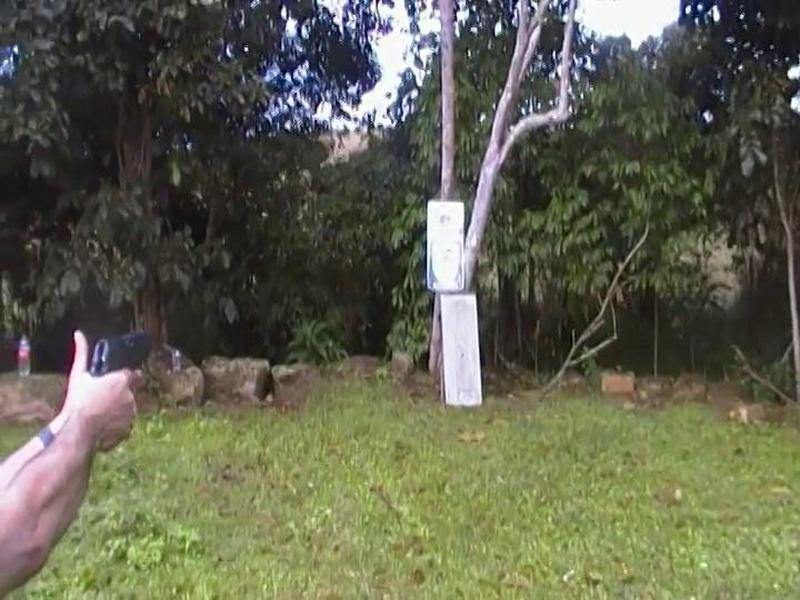Pistola: (71, 310, 165, 406)
